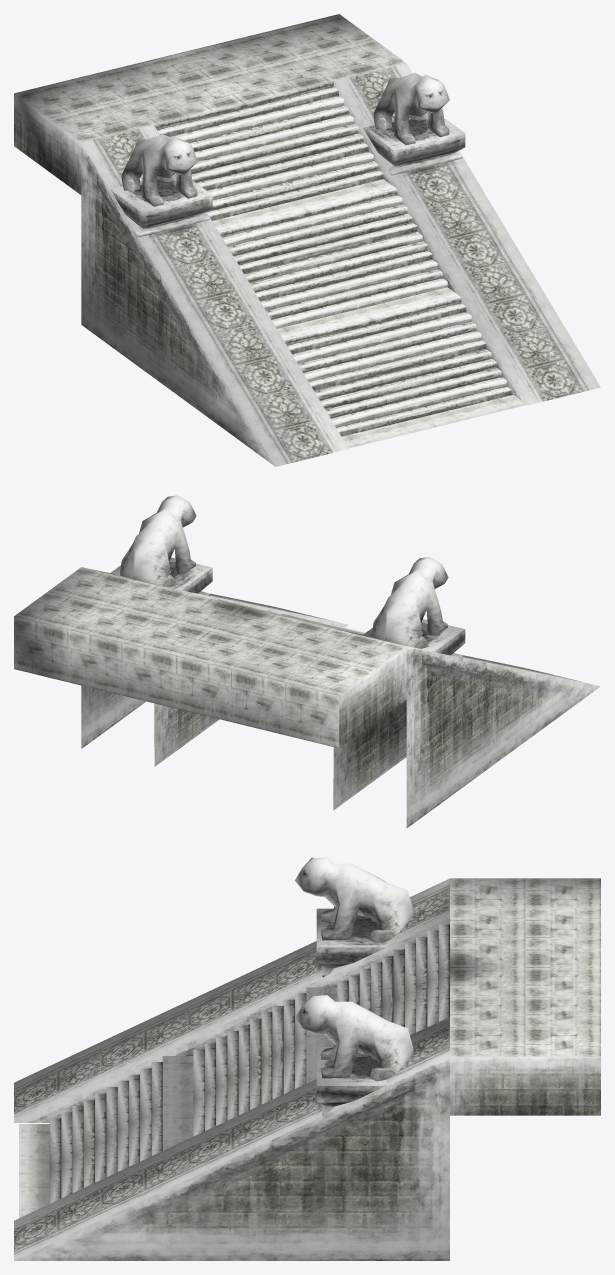
Rendered from snow-002-inwall-02.fbx.
The picture shows the model from 3 angles, top to bottom: view 1: azimuth 30°, elevation 25°; view 2: azimuth 150°, elevation 25°; view 3: azimuth 270°, elevation 25°; orthographic projection. The views are drawn at different scales.
Visible parts, largest first — view 1: snow-002-inwall-02; view 2: snow-002-inwall-02; view 3: snow-002-inwall-02.
Boxes of the visible parts, x1,y1,x2,y2 form: snow-002-inwall-02: (14,14,600,466); snow-002-inwall-02: (14,495,600,828); snow-002-inwall-02: (14,857,600,1260).
Bounding box in the file's own units: 11.38 × 7.39 × 15.85.
